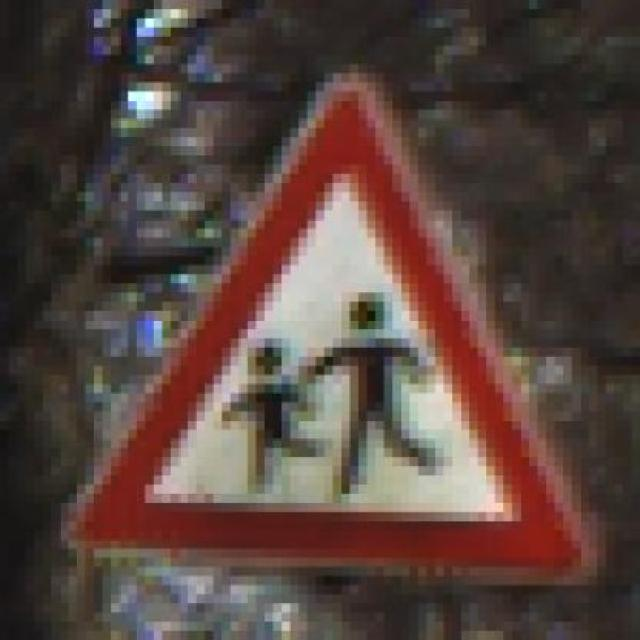Beware of children: (51, 54, 614, 586)
